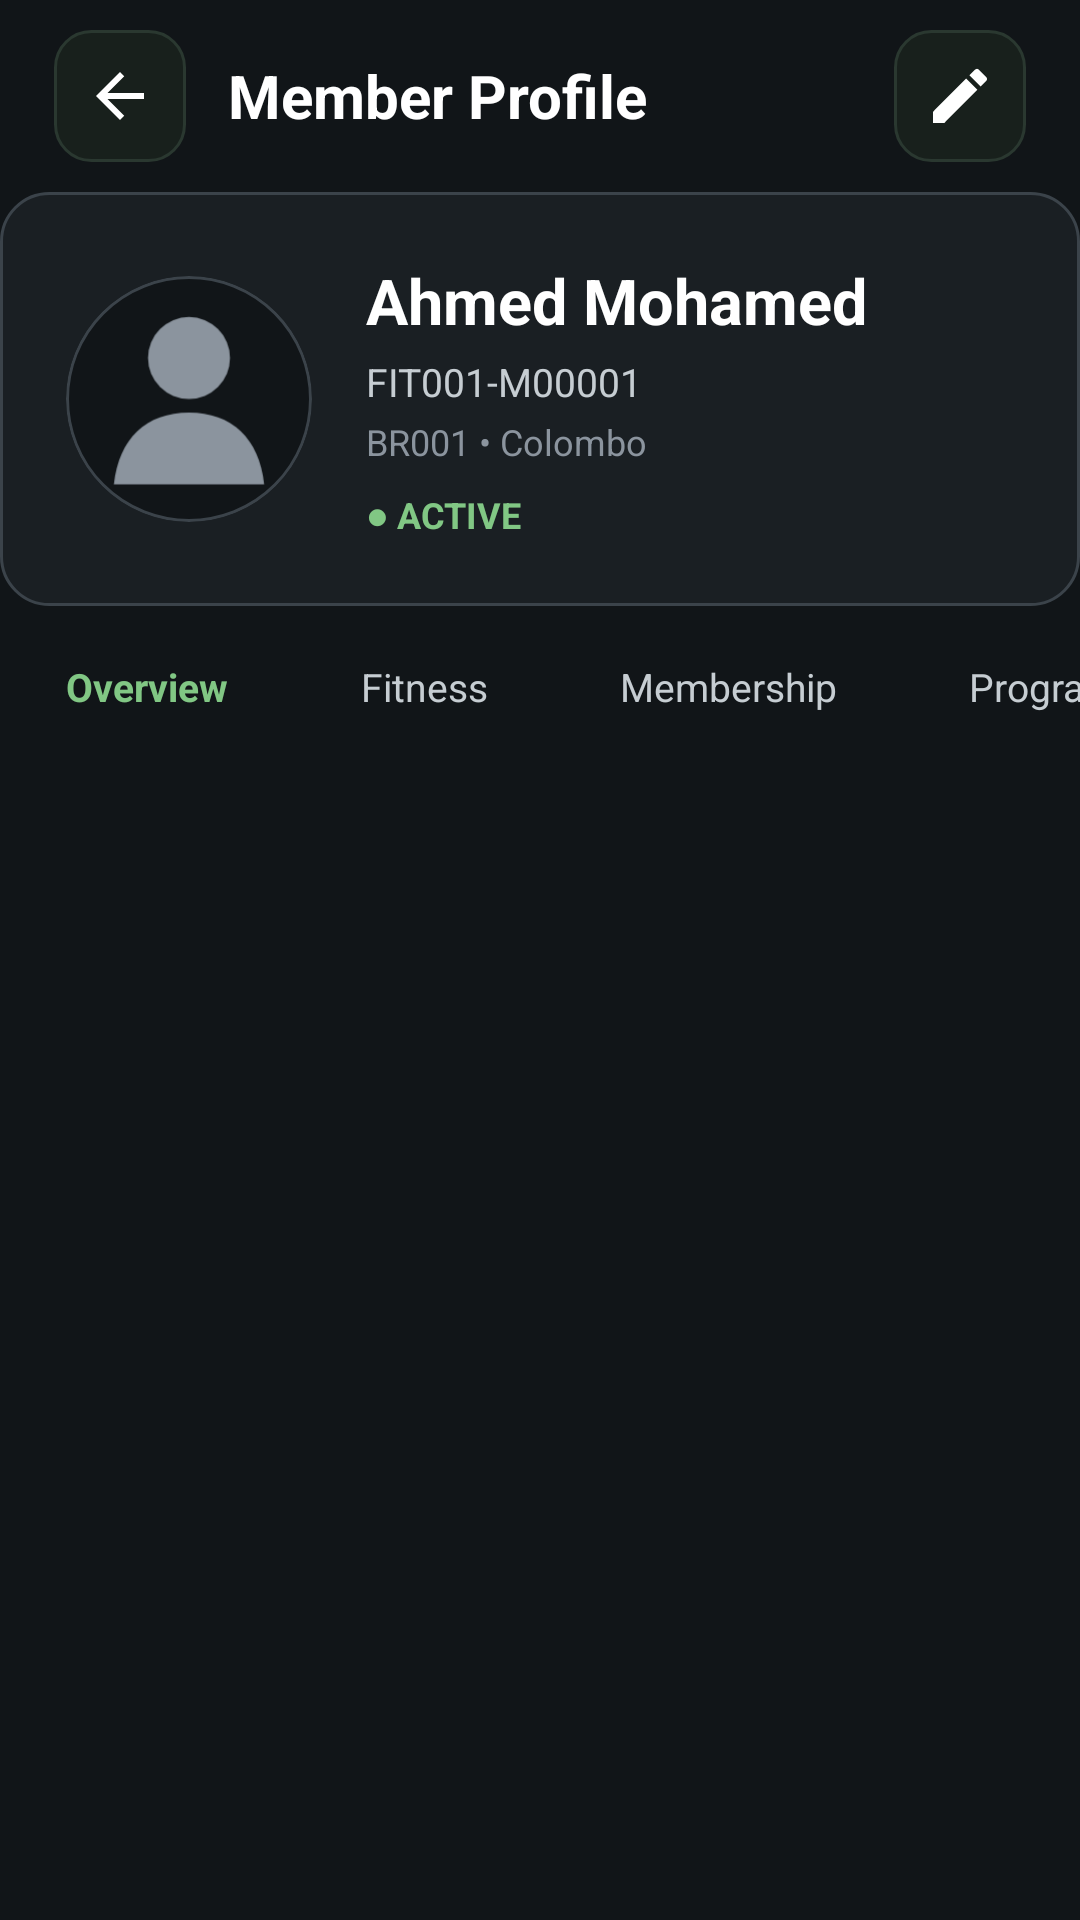

Icons on this 1080w x 1920h Android screen, each with the point to tap as (x,y):
Back: (120,96)
Edit Member: (960,96)
person: (189,399)
